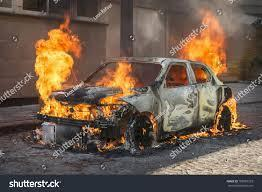fire: (25, 23, 244, 140)
